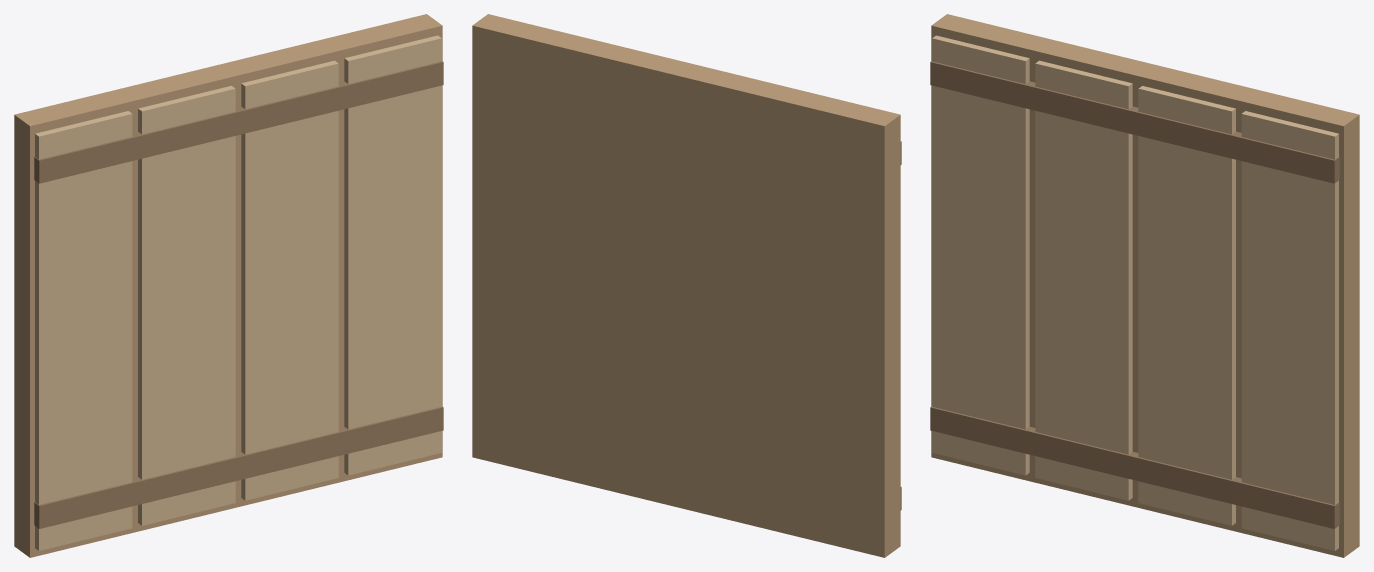
File: wall.glb
The picture shows the model from 3 angles, left to right: view 1: azimuth 30°, elevation 25°; view 2: azimuth 150°, elevation 25°; view 3: azimuth 330°, elevation 25°; orthographic projection.
Visible parts, largest first — view 1: wall; view 2: wall; view 3: wall.
Boxes of the visible parts, x1,y1,x2,y2 form: wall: (14, 14, 443, 557); wall: (472, 14, 901, 557); wall: (930, 14, 1359, 557).
Bounding box in the file's own units: 3 × 3 × 0.265.
